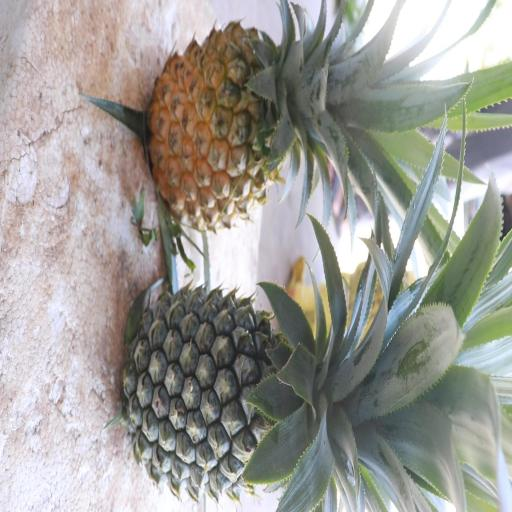Pineapple - v8 v1: (147, 21, 410, 213)
